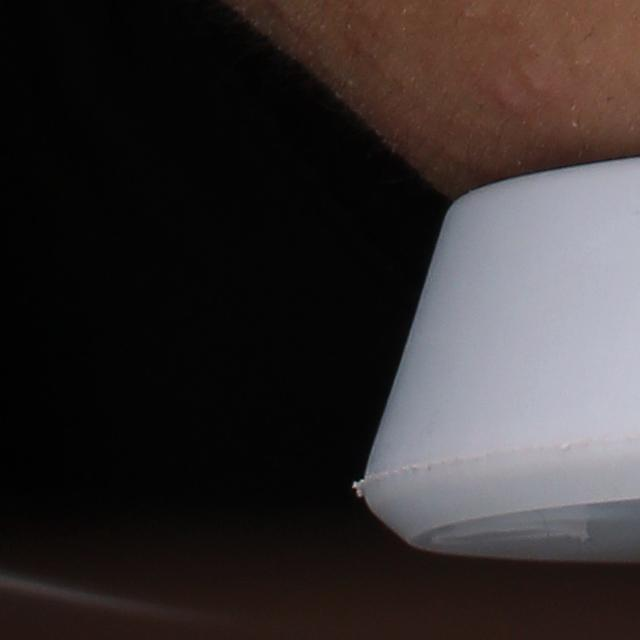papule: (492, 85, 528, 112)
